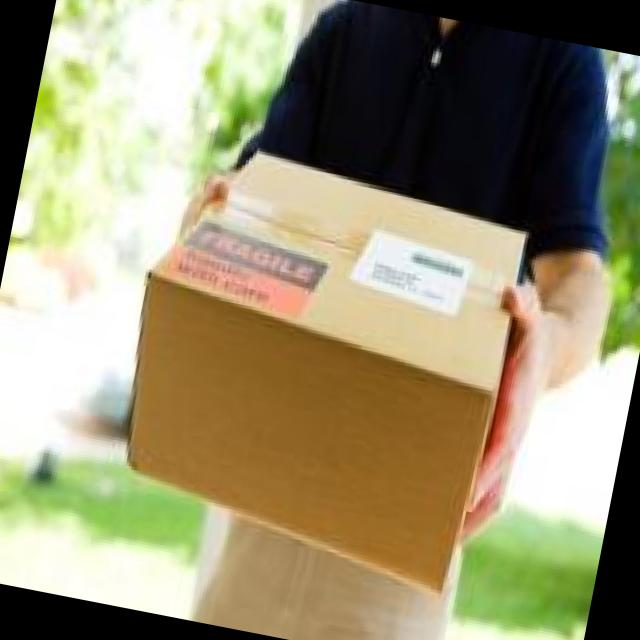box: (126, 150, 529, 598)
